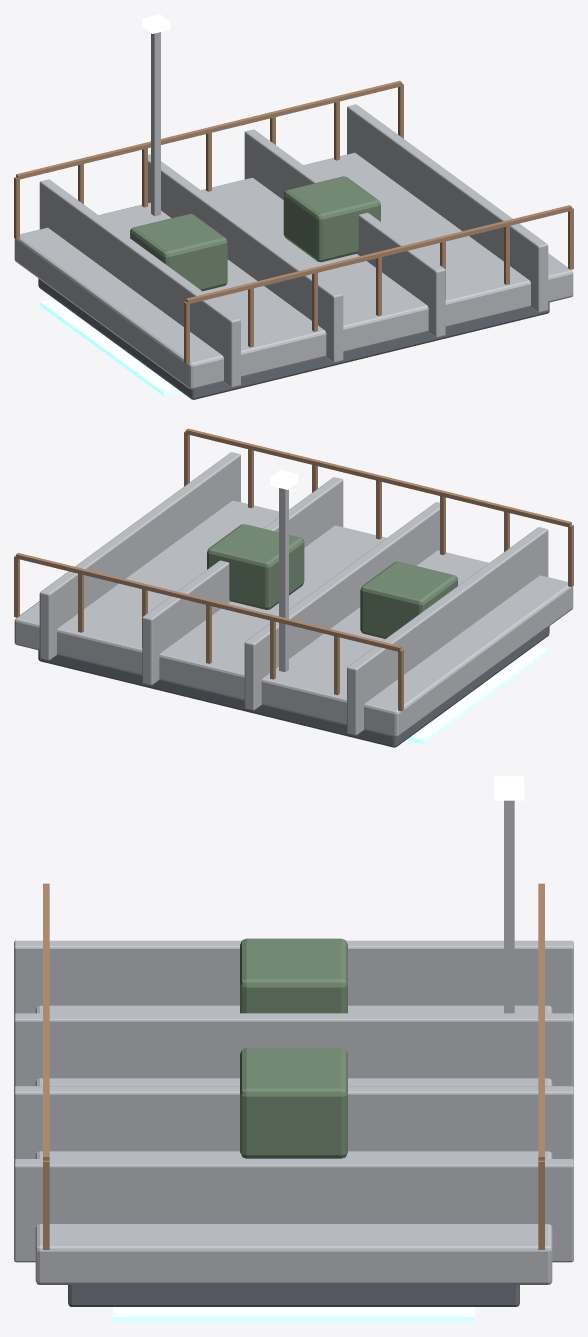
The model's file is bridgew_3.glb.
The picture shows the model from 3 angles, top to bottom: view 1: azimuth 30°, elevation 25°; view 2: azimuth 150°, elevation 25°; view 3: azimuth 270°, elevation 25°; orthographic projection. The views are drawn at different scales.
Visible parts, largest first — view 1: ext_bridge_floor, ext_bridge_ribs, ext_bridge_plants, ext_bridge_rail, ext_bridge_under, ext_bridge_glow, ext_lamp0; view 2: ext_bridge_floor, ext_bridge_ribs, ext_bridge_plants, ext_bridge_rail, ext_bridge_under, ext_bridge_glow, ext_lamp0, ext_lamp_glow0; view 3: ext_bridge_ribs, ext_bridge_floor, ext_bridge_plants, ext_bridge_under, ext_bridge_glow, ext_bridge_rail, ext_lamp0, ext_lamp_glow0.
Part boxes in pixels (bbox=[...]): ext_bridge_floor: bbox=[14, 152, 573, 389]; ext_bridge_ribs: bbox=[39, 104, 548, 387]; ext_bridge_plants: bbox=[130, 176, 380, 291]; ext_bridge_rail: bbox=[14, 80, 573, 363]; ext_bridge_under: bbox=[38, 278, 549, 399]; ext_bridge_glow: bbox=[40, 298, 181, 396]; ext_lamp0: bbox=[151, 32, 160, 216]; ext_bridge_floor: bbox=[14, 500, 573, 737]; ext_bridge_ribs: bbox=[39, 452, 548, 735]; ext_bridge_plants: bbox=[207, 524, 457, 638]; ext_bridge_rail: bbox=[14, 428, 573, 711]; ext_bridge_under: bbox=[38, 626, 549, 747]; ext_bridge_glow: bbox=[406, 646, 547, 744]; ext_lamp0: bbox=[279, 488, 288, 672]; ext_lamp_glow0: bbox=[270, 470, 298, 489]; ext_bridge_ribs: bbox=[14, 940, 573, 1262]; ext_bridge_floor: bbox=[35, 1005, 552, 1284]; ext_bridge_plants: bbox=[240, 938, 347, 1158]; ext_bridge_under: bbox=[68, 1285, 519, 1306]; ext_bridge_glow: bbox=[113, 1307, 474, 1322]; ext_bridge_rail: bbox=[43, 883, 544, 1249]; ext_lamp0: bbox=[504, 800, 514, 1013]; ext_lamp_glow0: bbox=[494, 776, 524, 800].
Bounding box in the file's own units: 3.03 × 1.83 × 2.6.
